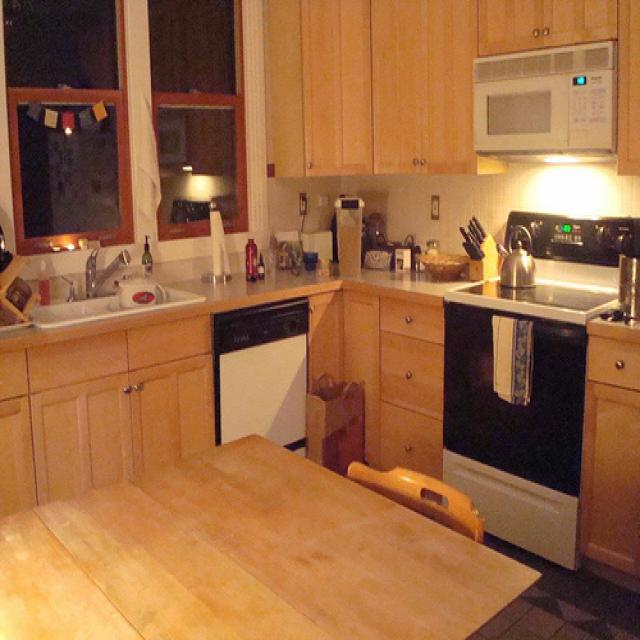chair: (349, 460, 486, 545)
dining table: (7, 435, 538, 632)
